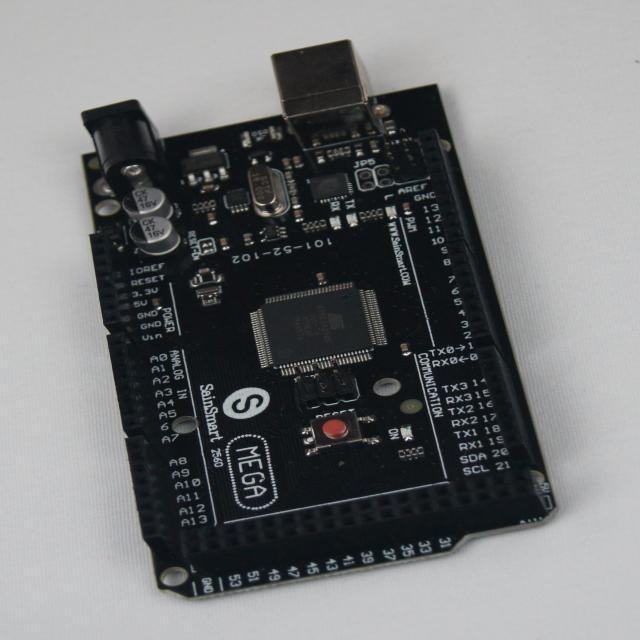Arduino Mega 2560 -Black-: (83, 42, 555, 598)
